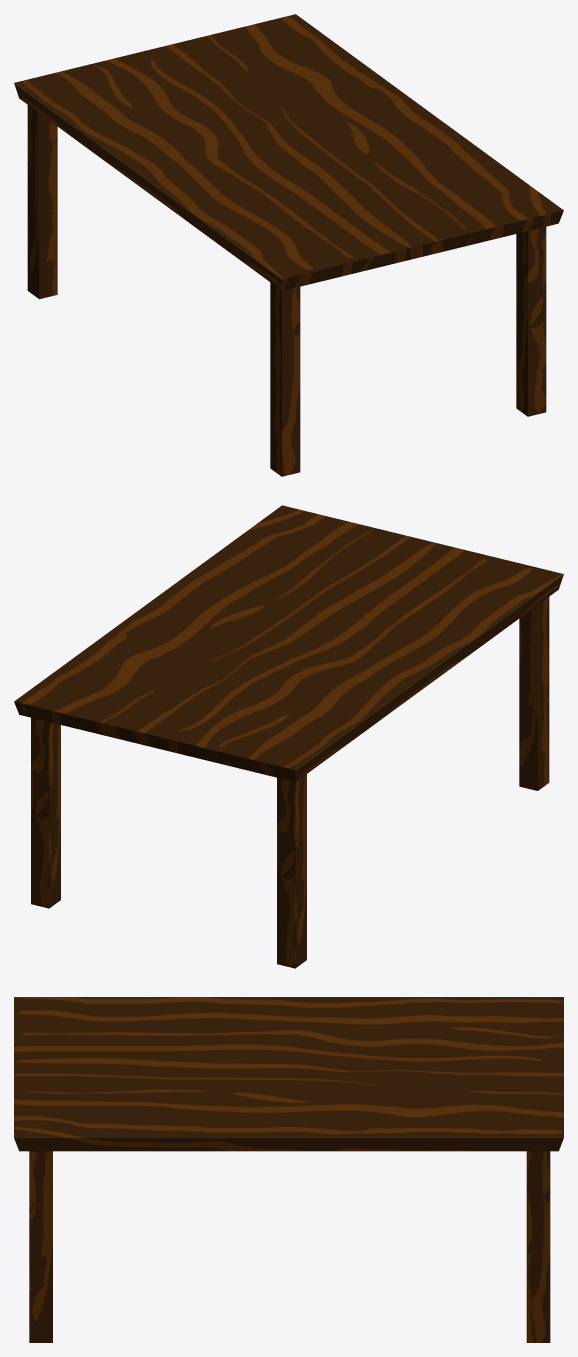
File: Table_export.FBX
3 views of the same model, one above another, from view 1: azimuth 30°, elevation 25°; view 2: azimuth 150°, elevation 25°; view 3: azimuth 270°, elevation 25° (orthographic). The views are drawn at different scales.
Parts seen in each view (by area): view 1: Table; view 2: Table; view 3: Table.
Part boxes in pixels (bbox=[...]): Table: bbox=[14, 14, 563, 476]; Table: bbox=[14, 505, 563, 968]; Table: bbox=[14, 997, 563, 1342].
Size of the model in its own units: 56.73 by 39.4 by 93.5.
Materials: 1 (1 with a texture image).
